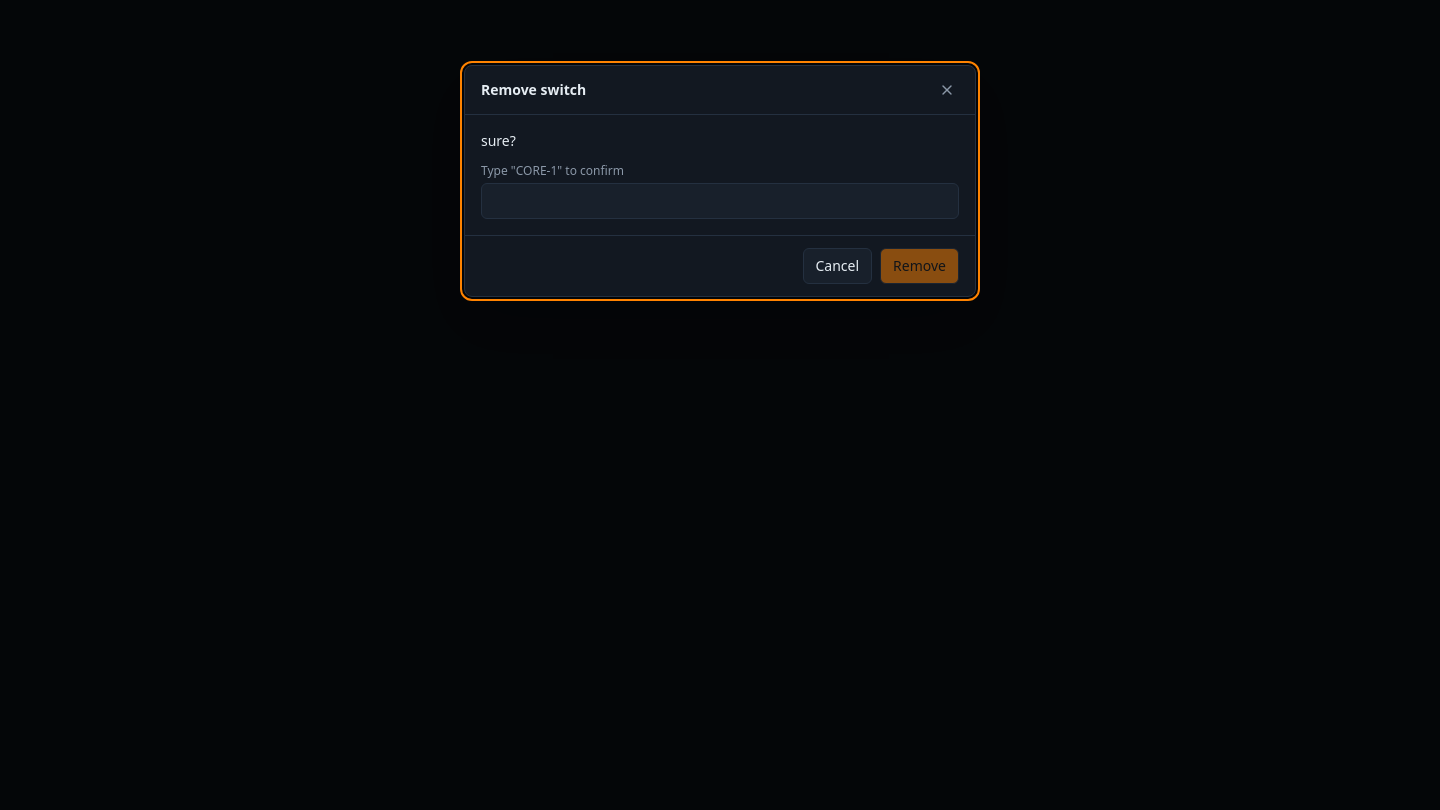
Test case: ConfirmDialog › requires the exact confirmation text before confirming
Later steps or results of the test are not shown.
Expected: the button "Remove" is disabled, x1=880 y1=248 x2=959 y2=284
Type "core-1" into the field named "Confirmation text" at x=720, y=201, box x1=481 y1=183 x2=959 y2=219
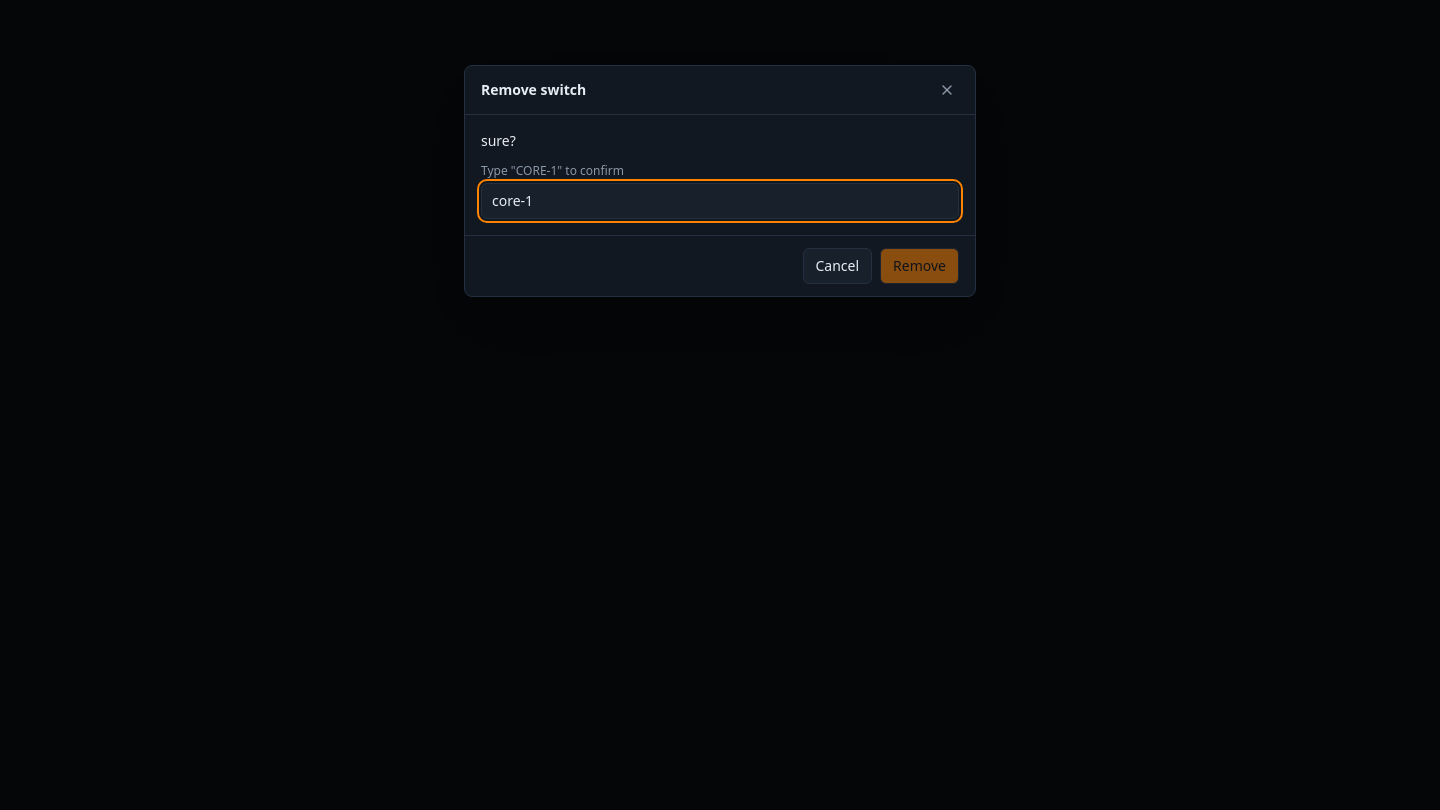
Expected: the button "Remove" is disabled, x1=880 y1=248 x2=959 y2=284
Replace the text in the field named "Confirmation text" with "CORE-1" at x=720, y=201, box x1=481 y1=183 x2=959 y2=219
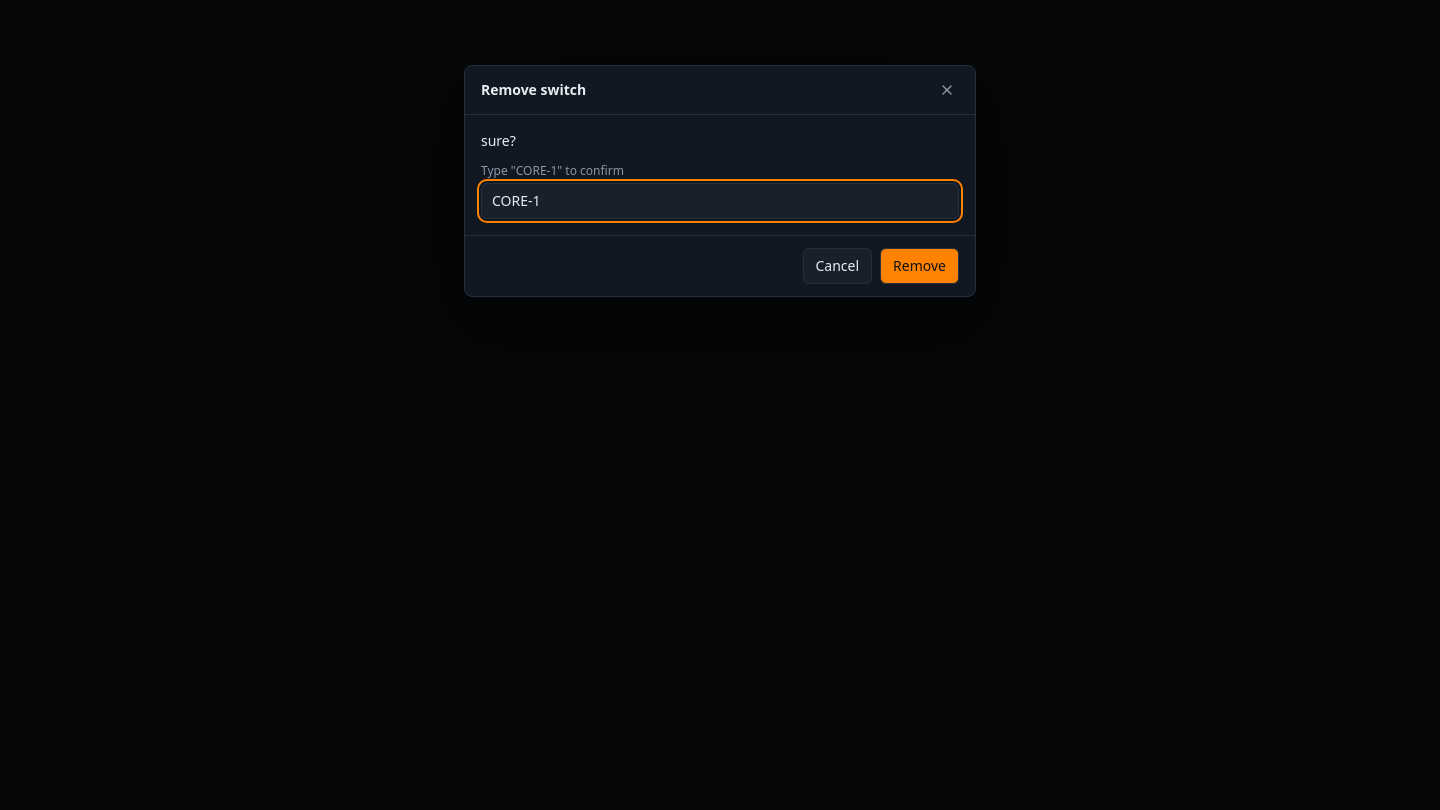
Expected: the button "Remove" is enabled, x1=880 y1=248 x2=959 y2=284
